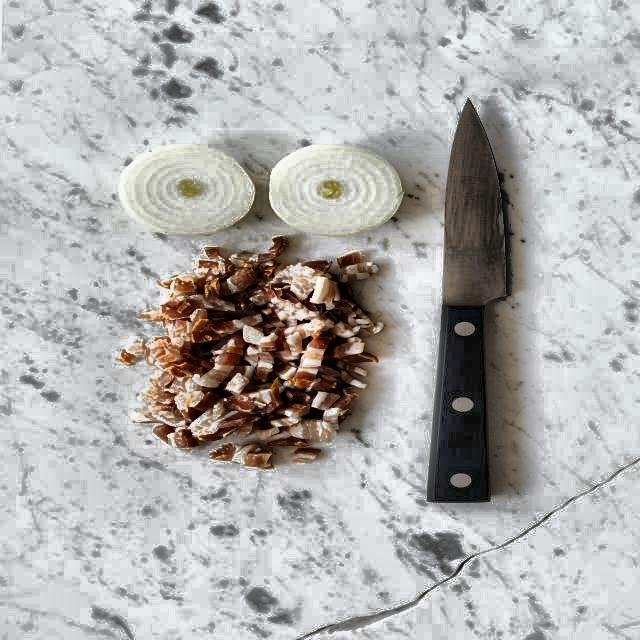knife: (423, 96, 516, 511)
